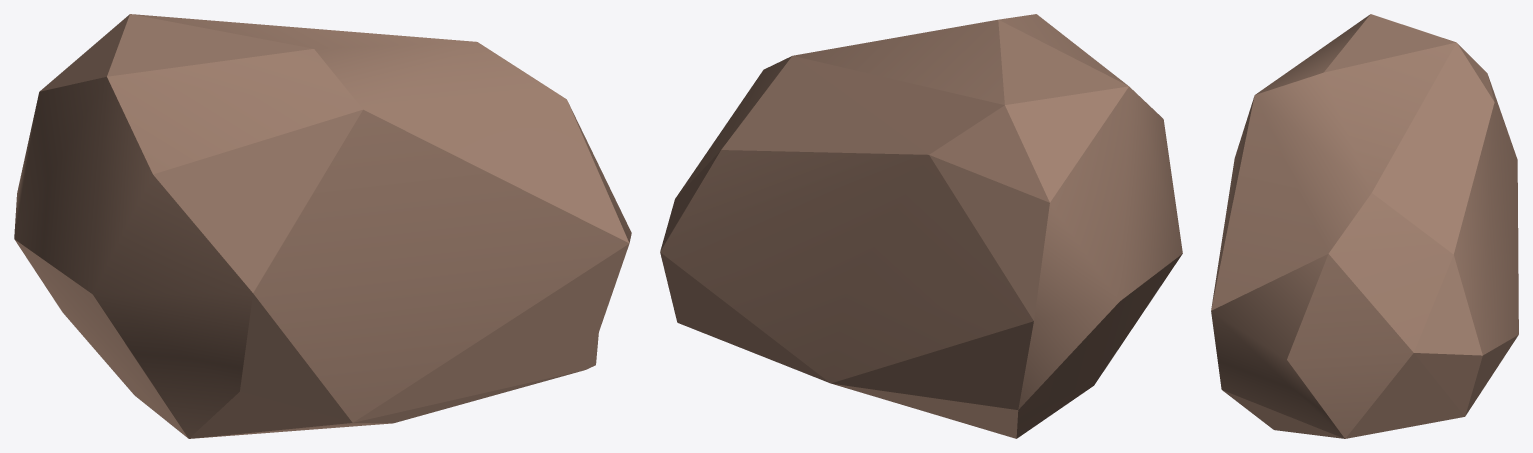
The model's file is a_z1_rock_m.fbx.
3 renders of one model, left to right at view 1: azimuth 30°, elevation 25°; view 2: azimuth 150°, elevation 25°; view 3: azimuth 270°, elevation 25°, orthographic. The views are drawn at different scales.
Visible parts, largest first — view 1: a_z1_rock_m; view 2: a_z1_rock_m; view 3: a_z1_rock_m.
Boxes of the visible parts, left/top/right/bottom form: a_z1_rock_m: left=14, top=14, right=631, bottom=438; a_z1_rock_m: left=660, top=14, right=1182, bottom=438; a_z1_rock_m: left=1211, top=14, right=1518, bottom=438.
Bounding box in the file's own units: 162 × 117 × 110.
